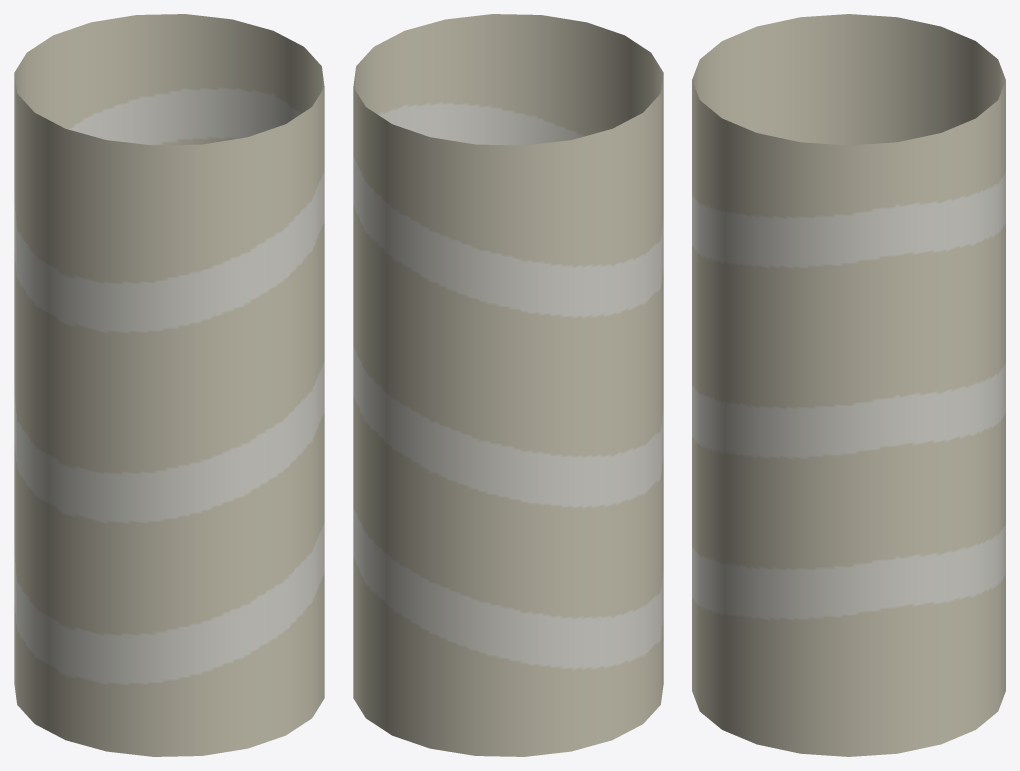
Rendered from milk.fbx.
3 renders of one model, left to right at view 1: azimuth 30°, elevation 25°; view 2: azimuth 150°, elevation 25°; view 3: azimuth 270°, elevation 25°, orthographic.
Parts seen in each view (by area): view 1: pCylinder1; view 2: pCylinder1; view 3: pCylinder1.
Boxes of the visible parts, left/top/right/bottom form: pCylinder1: left=14, top=14, right=324, bottom=756; pCylinder1: left=353, top=14, right=663, bottom=756; pCylinder1: left=692, top=14, right=1005, bottom=756.
Size of the model in its own units: 1.07 by 2.31 by 1.07.
1 material, 1 textured.
